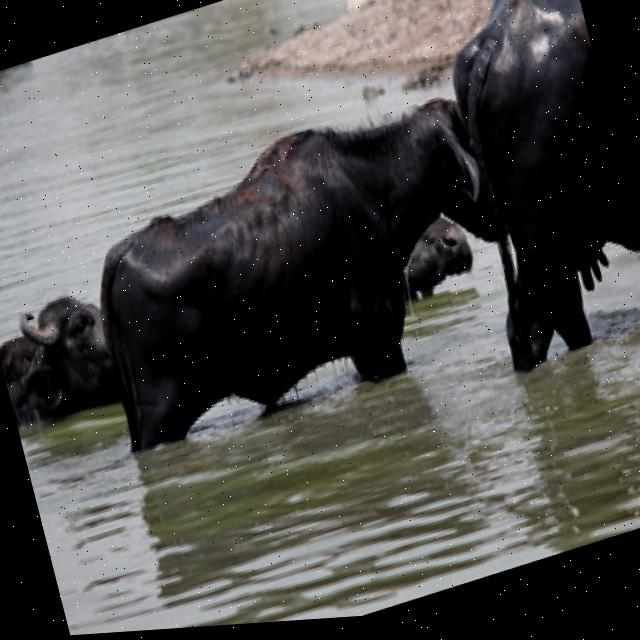Buffalo: (62, 70, 532, 461)
